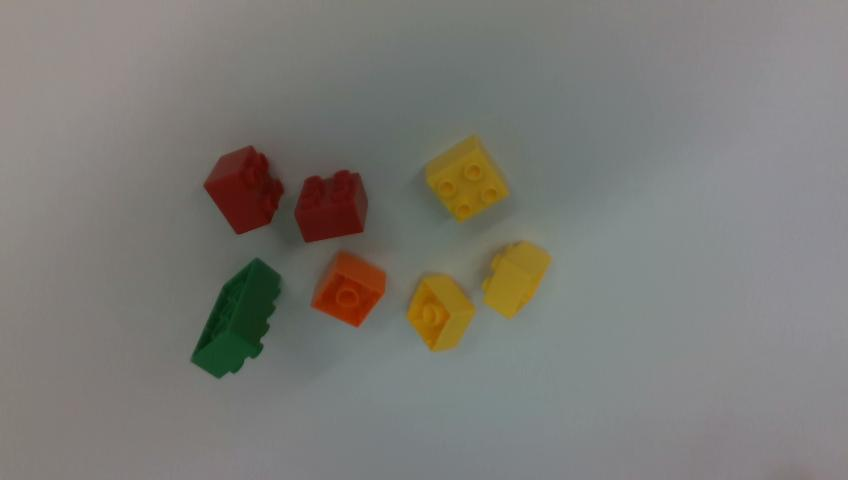2x2_orange: (313, 251, 385, 327)
2x2_red: (204, 146, 283, 233), (295, 170, 367, 242)
2x2_yellow: (426, 136, 508, 221), (407, 274, 476, 351), (482, 241, 551, 318)
4x2_green: (191, 258, 280, 377)
